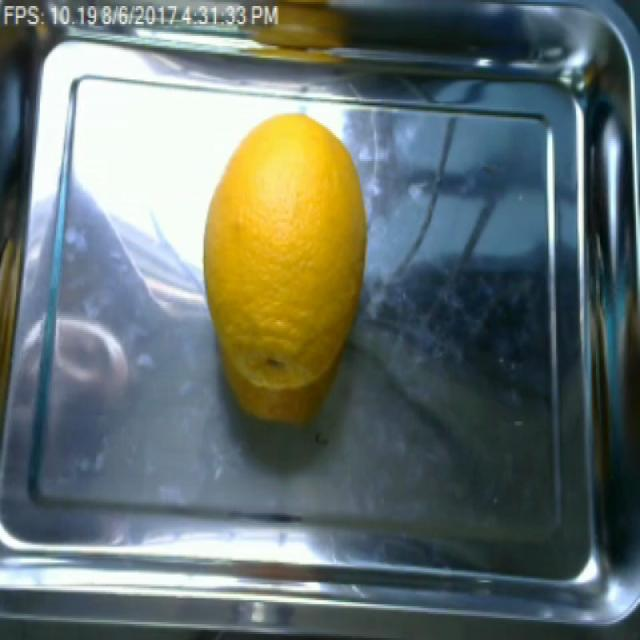Fruit: (199, 101, 372, 300)
